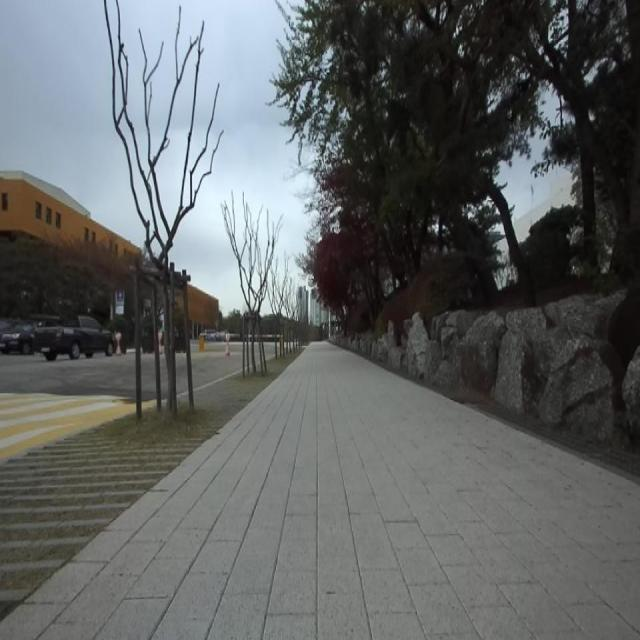sidewalk: (0, 342, 640, 639)
